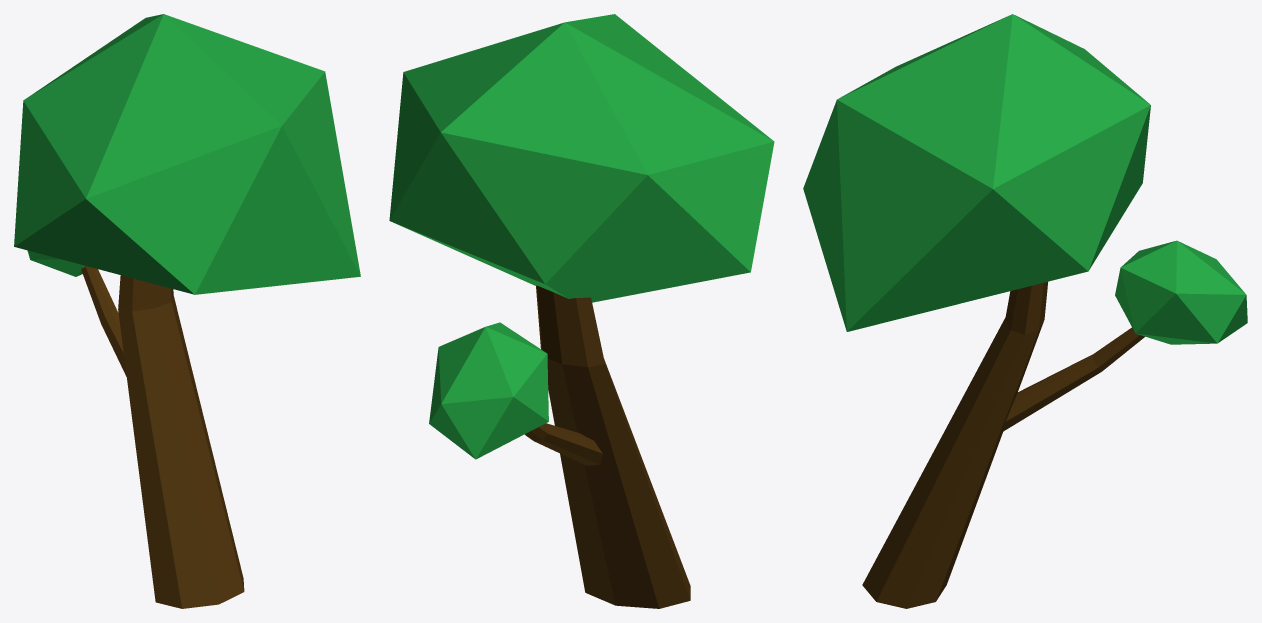
The model's file is tree003.fbx.
3 renders of one model, left to right at view 1: azimuth 30°, elevation 25°; view 2: azimuth 150°, elevation 25°; view 3: azimuth 270°, elevation 25°, orthographic. The views are drawn at different scales.
Parts seen in each view (by area): view 1: Icosphere.004; view 2: Icosphere.004; view 3: Icosphere.004.
Boxes of the visible parts, x1,y1,x2,y2 form: Icosphere.004: (14,14,360,608); Icosphere.004: (389,14,774,608); Icosphere.004: (803,14,1247,608).
Bounding box in the file's own units: 684 × 1132 × 788.
